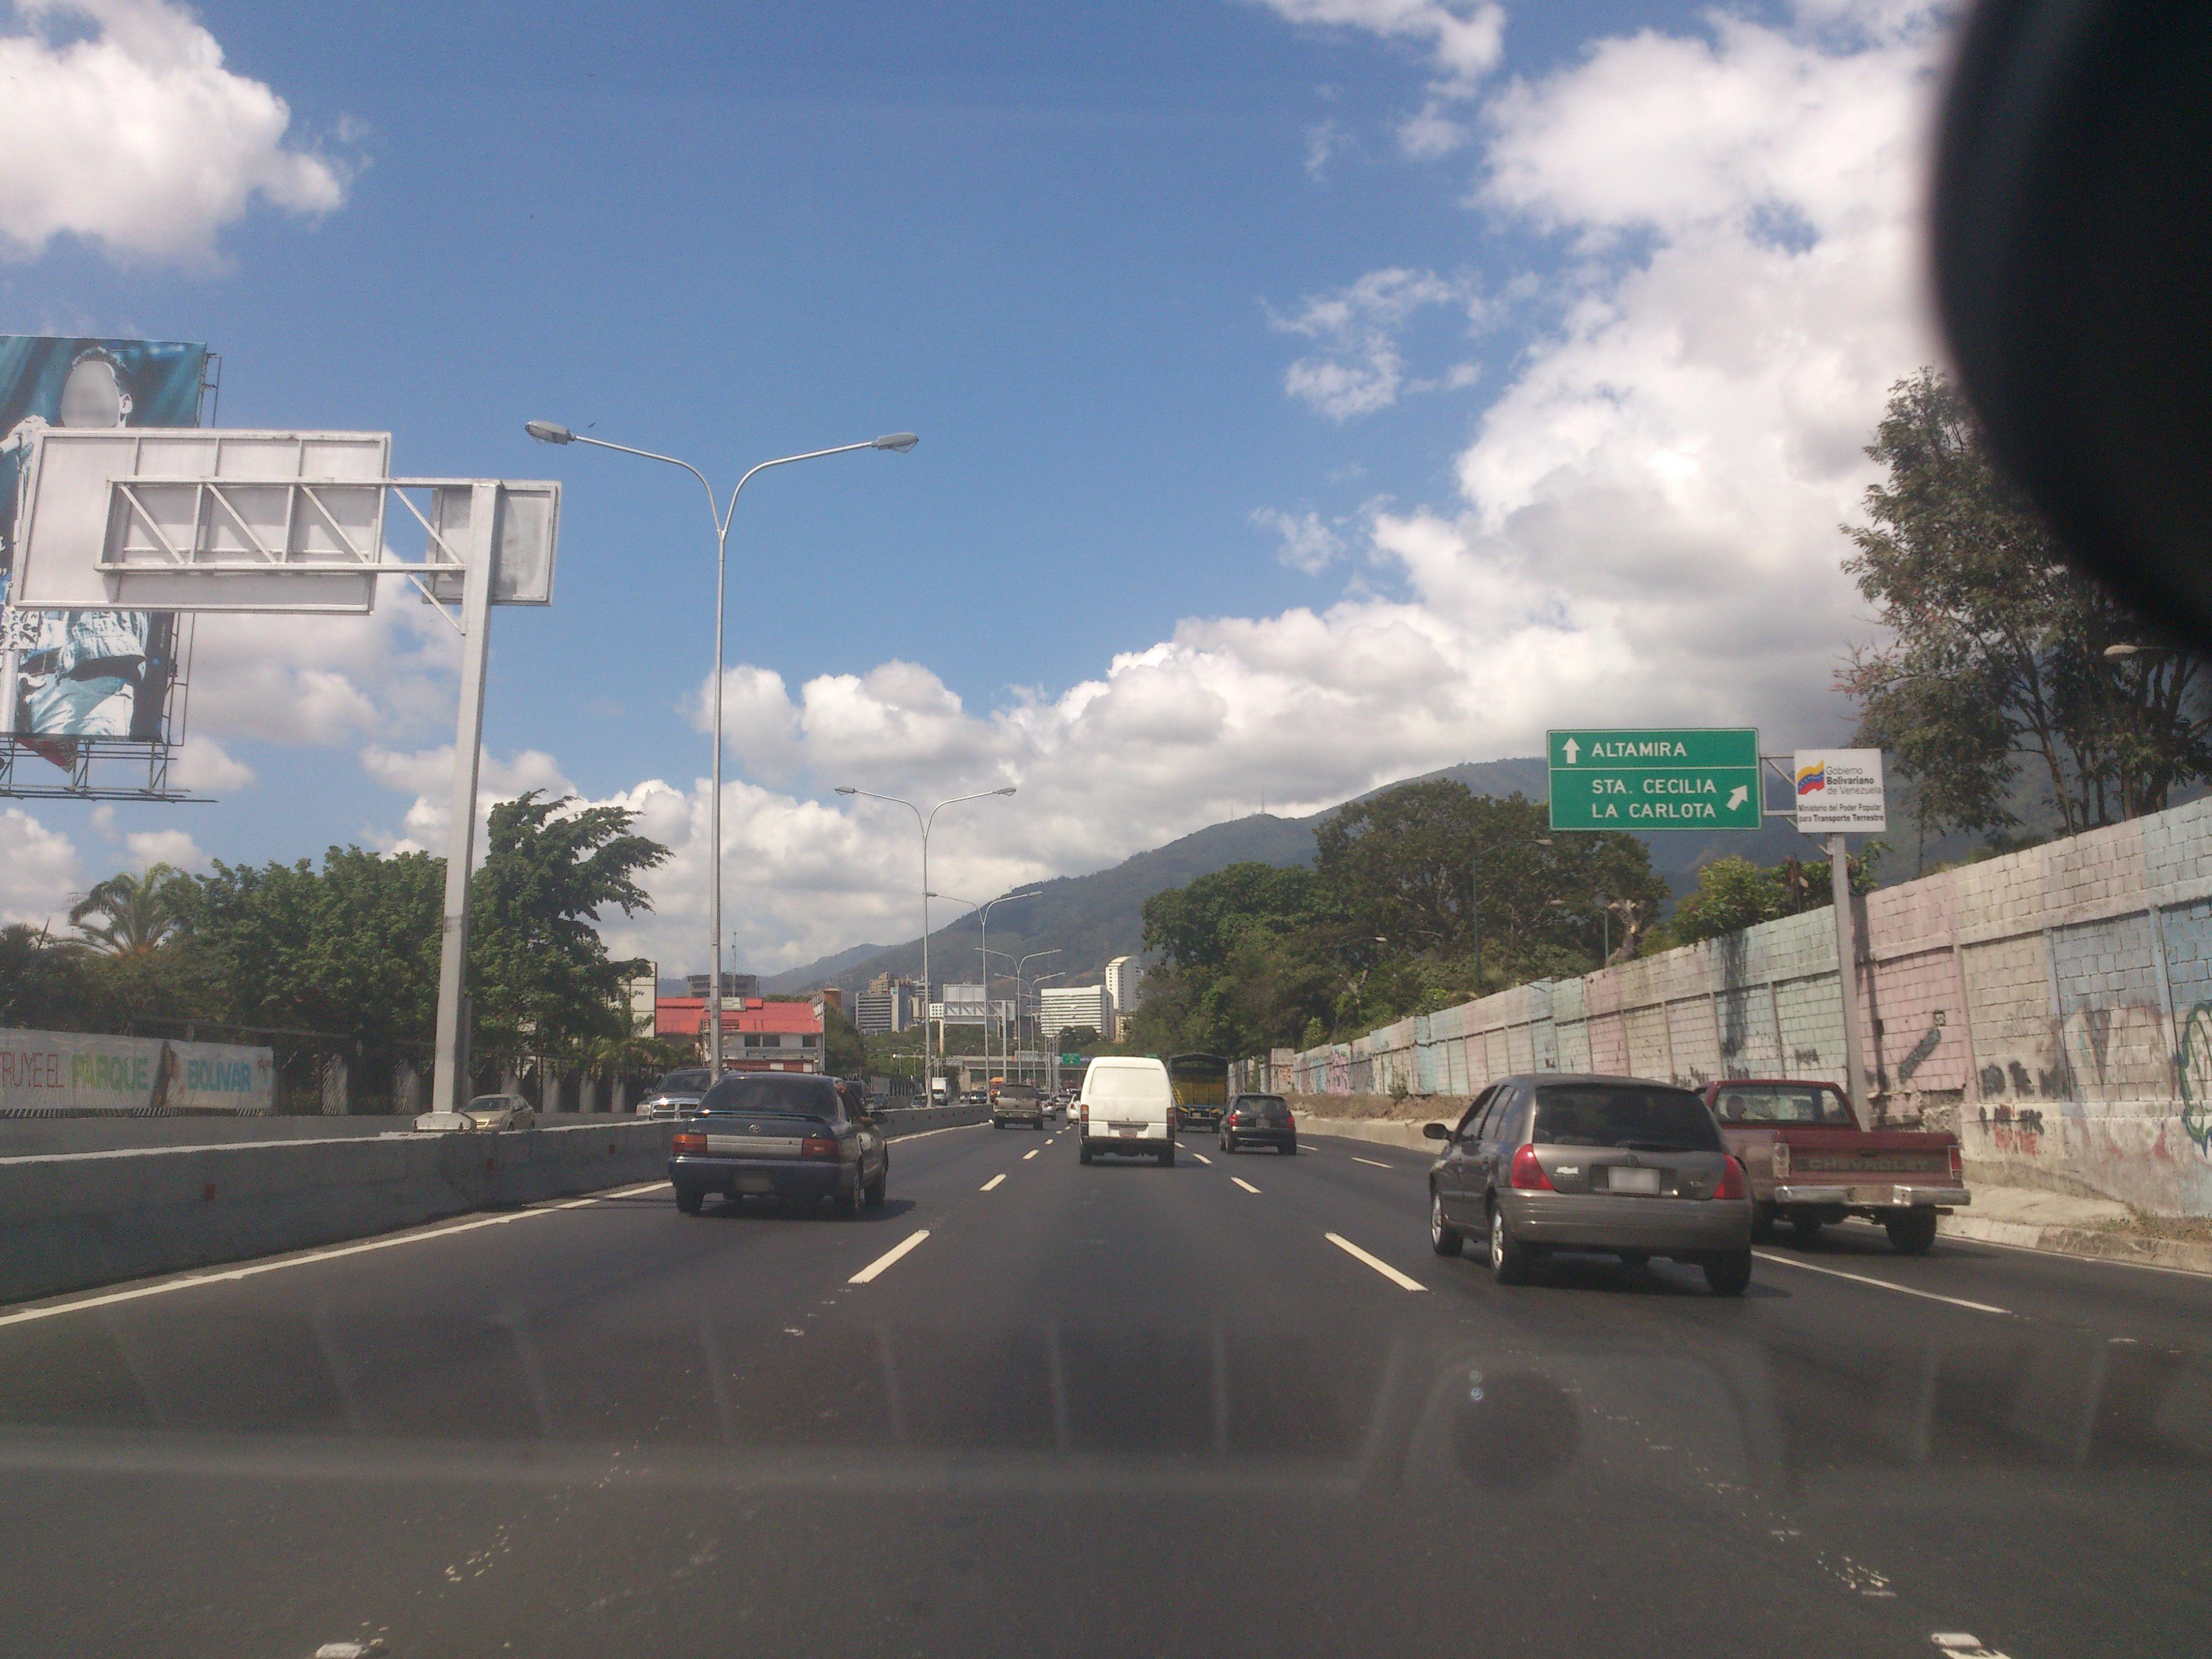vinyl banner: (0, 1014, 279, 1143)
